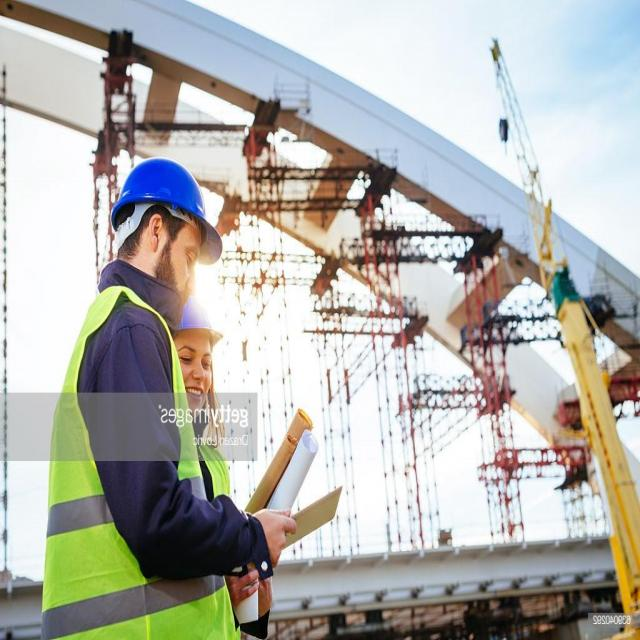Reflective-Jacket: (36, 297, 240, 639)
Safety-Helmet: (105, 149, 224, 268), (172, 290, 225, 346)
